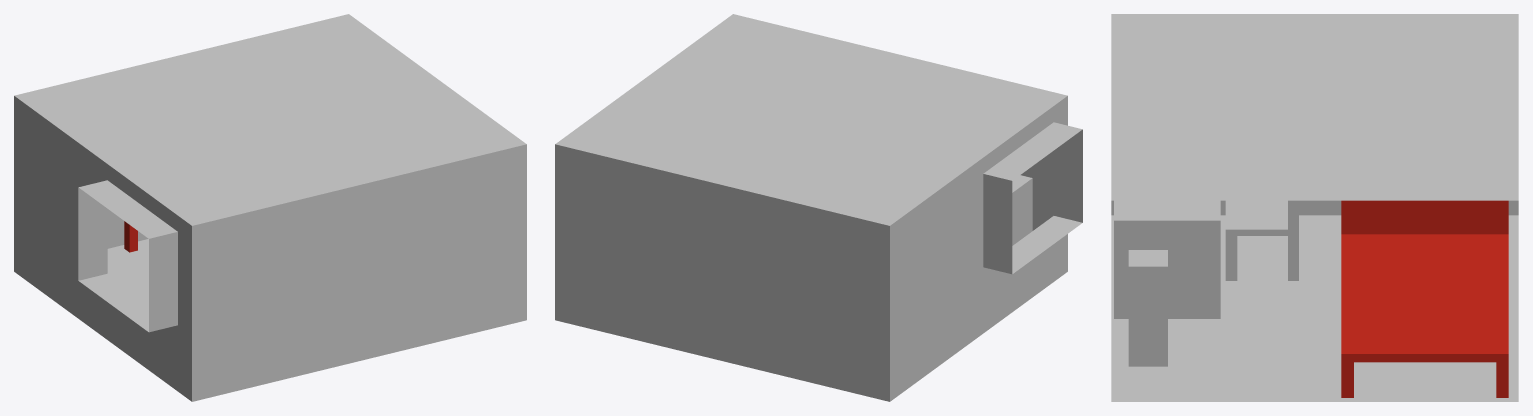
Rendered from Room.obj.
3 views of the same model, side by side, from view 1: azimuth 30°, elevation 25°; view 2: azimuth 150°, elevation 25°; view 3: azimuth 270°, elevation 25° (orthographic). The views are drawn at different scales.
Visible parts, largest first — view 1: Plane; view 2: Plane, Plane.002; view 3: Plane, Plane.001, Plane.002, Cube, Plane.003.
Boxes of the visible parts, box(x1,y1,x2,y2) form: Plane: box(14, 14, 526, 401); Plane: box(555, 14, 1082, 401); Plane.002: box(1012, 175, 1032, 245); Plane: box(1111, 14, 1518, 401); Plane.001: box(1341, 200, 1508, 397); Plane.002: box(1114, 200, 1220, 318); Cube: box(1128, 250, 1167, 366); Plane.003: box(1225, 200, 1298, 280).
Bounding box in the file's own units: 8.7 × 4.02 × 7.37.
